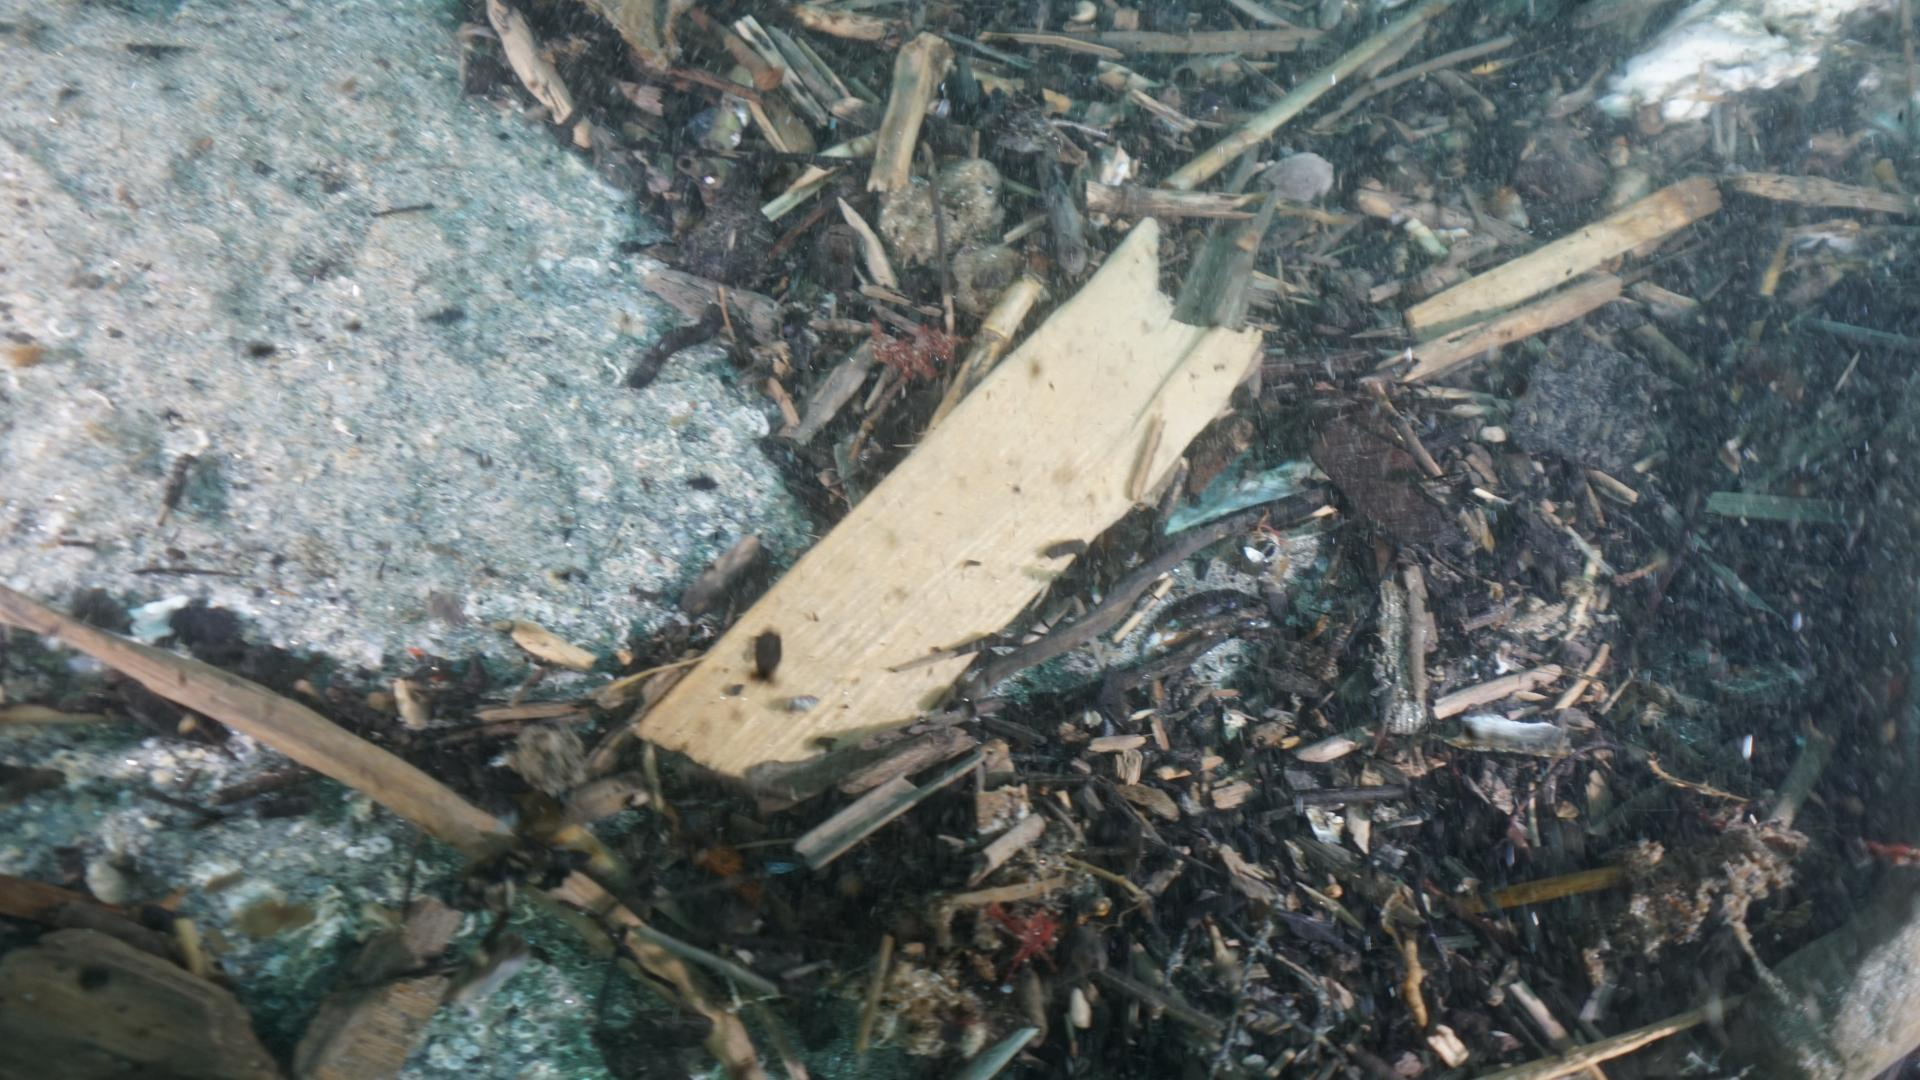wood: (636, 215, 1267, 823)
